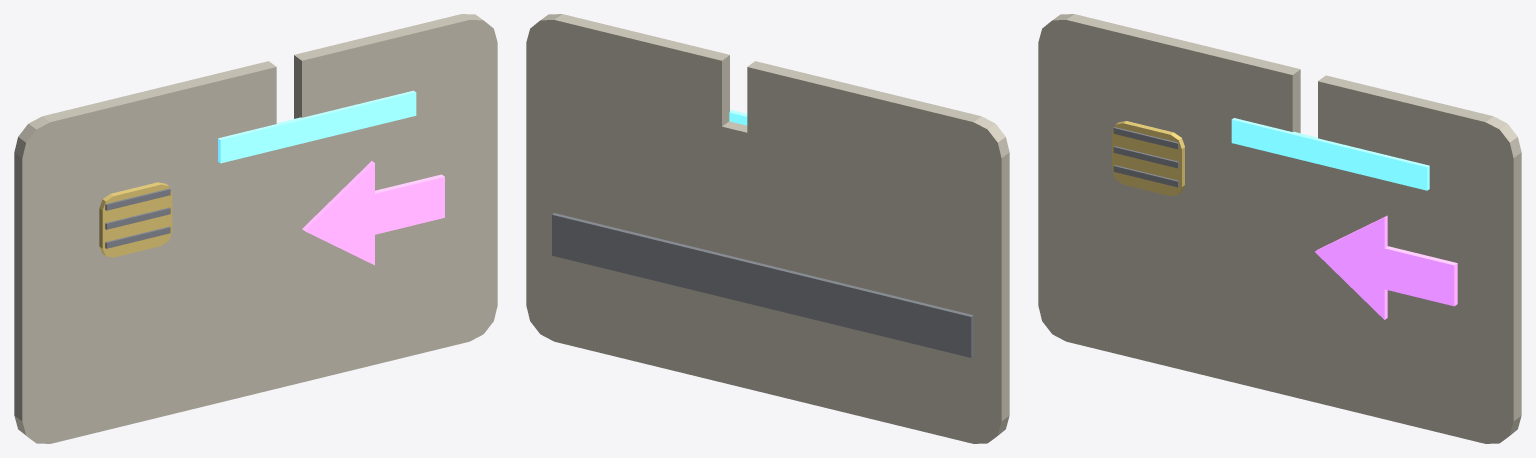
File: pickups-and-collectibles-key-card-452e656d__19924.glb
The picture shows the model from 3 angles, left to right: view 1: azimuth 30°, elevation 25°; view 2: azimuth 150°, elevation 25°; view 3: azimuth 330°, elevation 25°; orthographic projection.
Parts seen in each view (by area): view 1: body/bone, body/arcane, body/gem, body/gold, body/iron; view 2: body/bone, body/iron; view 3: body/bone, body/arcane, body/gem, body/gold, body/iron.
Boxes of the visible parts, x1,y1,x2,y2 form: body/bone: [14, 14, 497, 443]; body/arcane: [302, 161, 444, 265]; body/gem: [218, 90, 416, 163]; body/gold: [99, 182, 172, 257]; body/iron: [105, 188, 170, 248]; body/bone: [526, 14, 1009, 443]; body/iron: [552, 213, 973, 357]; body/bone: [1038, 14, 1521, 443]; body/arcane: [1315, 215, 1457, 319]; body/gem: [1231, 118, 1429, 190]; body/gold: [1112, 121, 1184, 196]; body/iron: [1113, 127, 1178, 187].
Size of the model in its own units: 0.34 by 0.22 by 0.0185.
